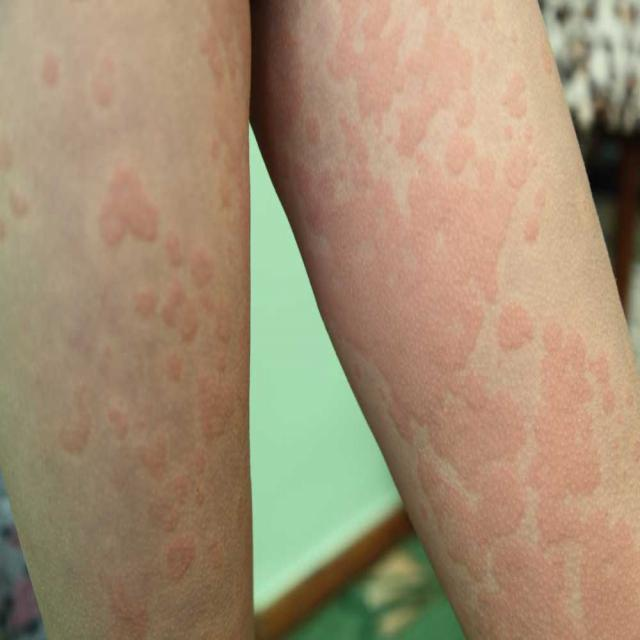hives: (262, 8, 638, 640), (8, 0, 246, 640)
